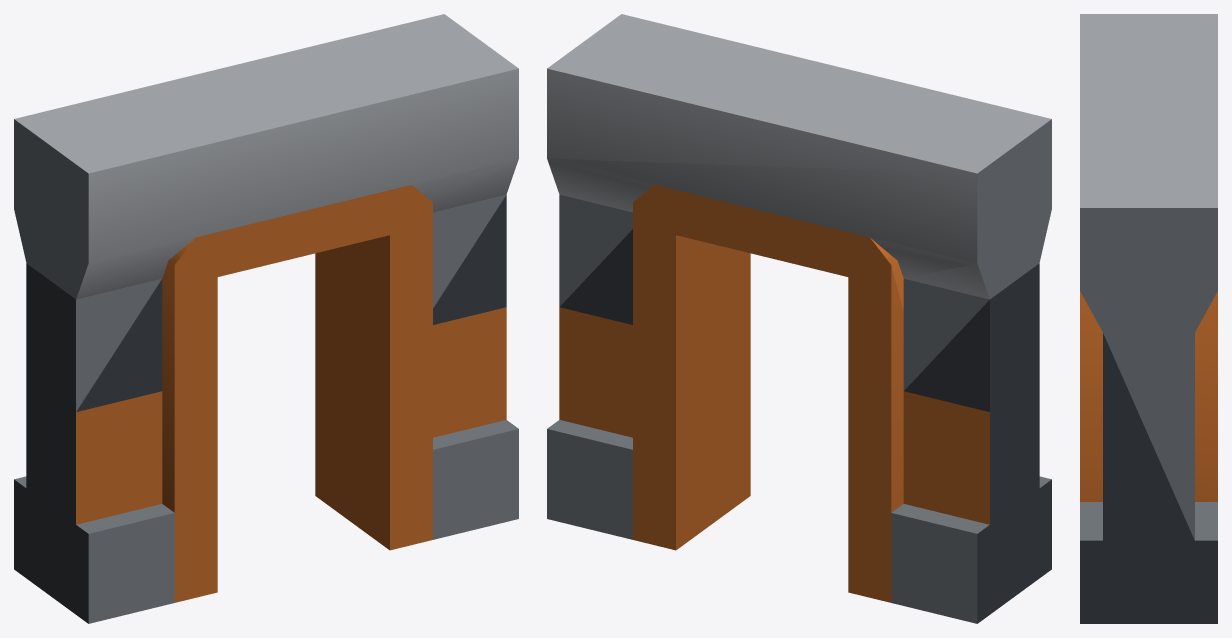
Rendered from Kit_wall-door-banner.fbx.
3 views of the same model, side by side, from view 1: azimuth 30°, elevation 25°; view 2: azimuth 150°, elevation 25°; view 3: azimuth 270°, elevation 25° (orthographic). The views are drawn at different scales.
Visible parts, largest first — view 1: Kit_wall-door-banner; view 2: Kit_wall-door-banner; view 3: Kit_wall-door-banner.
Boxes of the visible parts, box(x1,y1,x2,y2) form: Kit_wall-door-banner: box(14, 14, 518, 623); Kit_wall-door-banner: box(547, 14, 1051, 623); Kit_wall-door-banner: box(1080, 14, 1217, 623).
Bounding box in the file's own units: 1 × 1 × 0.3.
